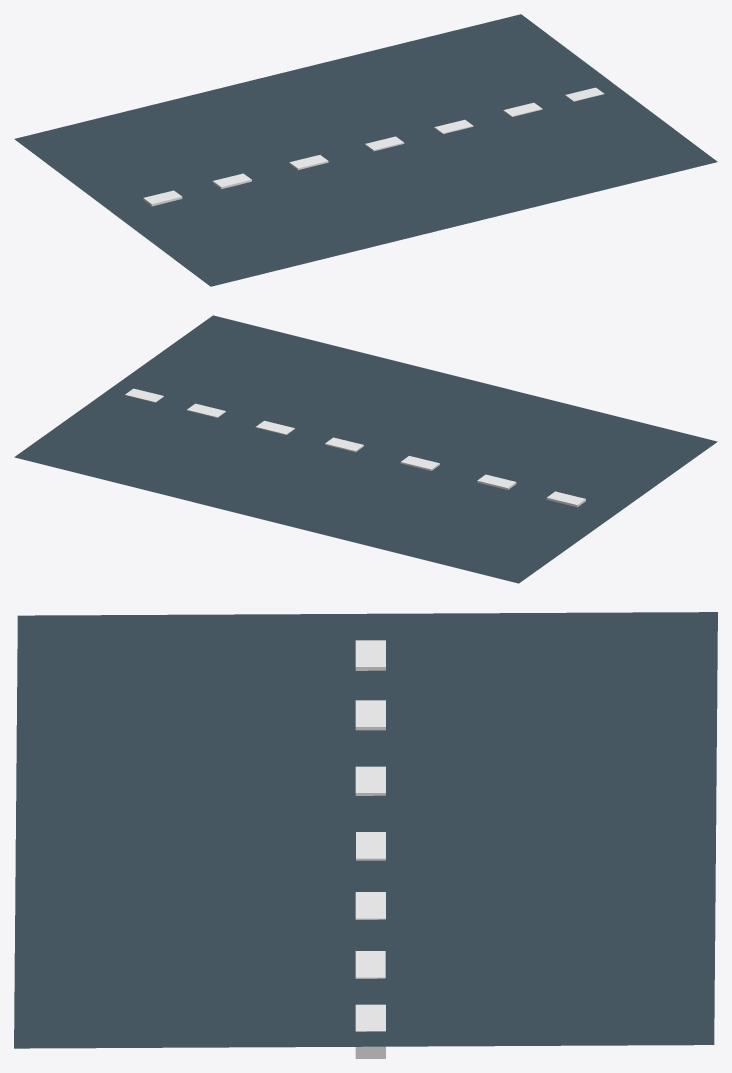
The model's file is road.glb.
The picture shows the model from 3 angles, top to bottom: view 1: azimuth 30°, elevation 25°; view 2: azimuth 150°, elevation 25°; view 3: azimuth 270°, elevation 25°; orthographic projection. The views are drawn at different scales.
Visible parts, largest first — view 1: group336620870; view 2: group336620870; view 3: group336620870, group1437559802, group1691973700, group1850925880, group1266234480, group1517981274, group1797842388, group231937087.
Part boxes in pixels (left/top/right/bottom): group336620870: left=14, top=14, right=717, bottom=286; group336620870: left=14, top=315, right=717, bottom=583; group336620870: left=14, top=612, right=717, bottom=1048; group1437559802: left=355, top=1004, right=385, bottom=1058; group1691973700: left=355, top=640, right=385, bottom=670; group1850925880: left=355, top=700, right=385, bottom=730; group1266234480: left=355, top=766, right=385, bottom=795; group1517981274: left=356, top=832, right=385, bottom=860; group1797842388: left=355, top=892, right=385, bottom=919; group231937087: left=355, top=951, right=385, bottom=978.
Bounding box in the file's own units: 0.6622 × 0.0211 × 0.45.
